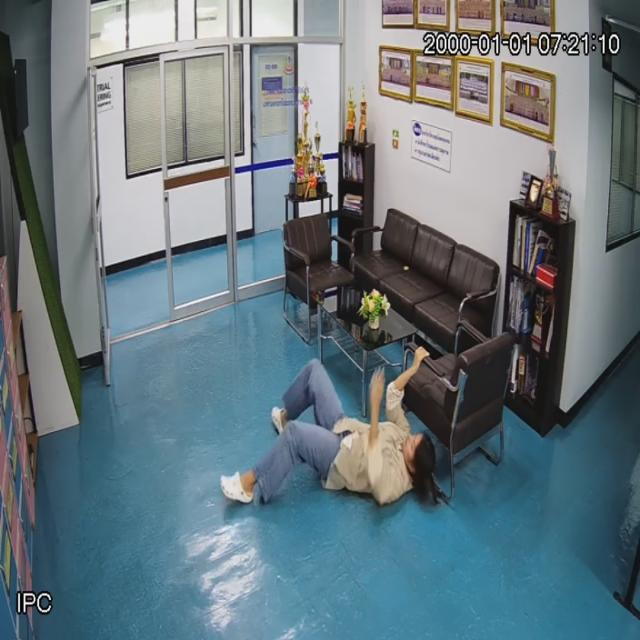fall: (224, 359, 436, 507)
